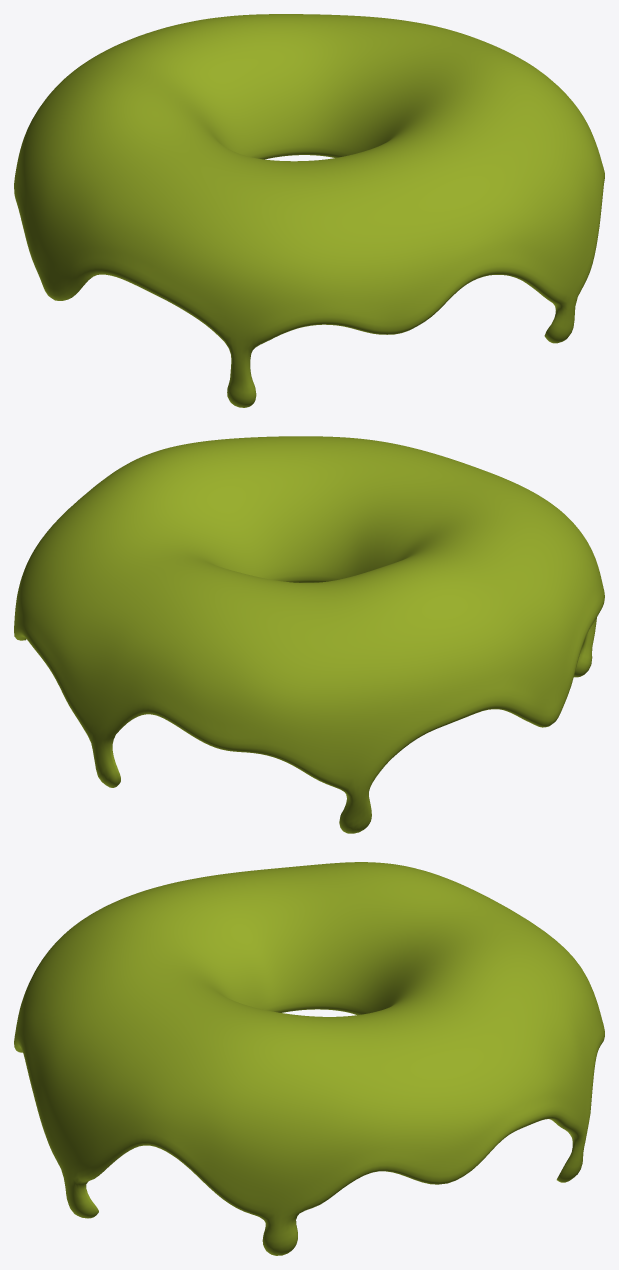
The model's file is Glaze.fbx.
3 renders of one model, top to bottom at view 1: azimuth 30°, elevation 25°; view 2: azimuth 150°, elevation 25°; view 3: azimuth 270°, elevation 25°, orthographic. The views are drawn at different scales.
Visible parts, largest first — view 1: Icing.002; view 2: Icing.002; view 3: Icing.002.
Part boxes in pixels (x1=…): Icing.002: x1=14, y1=14, x2=604, y2=407; Icing.002: x1=14, y1=436, x2=604, y2=833; Icing.002: x1=14, y1=862, x2=604, y2=1255.
Size of the model in its own units: 0.127 by 0.0523 by 0.128.
